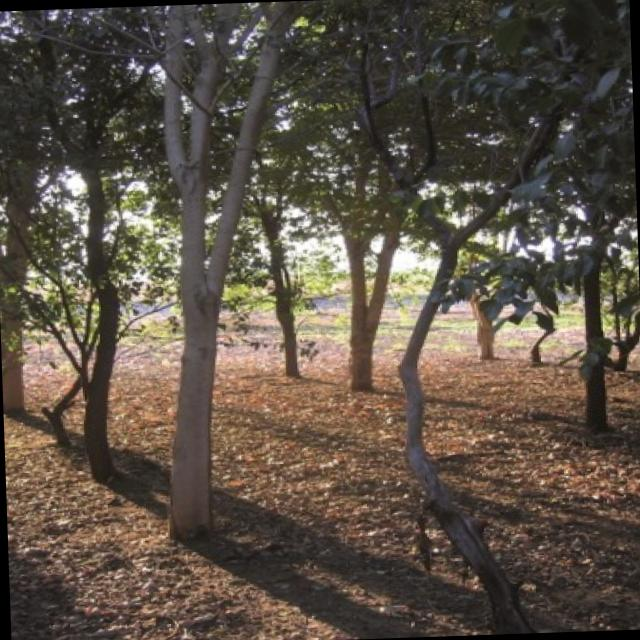Medicinal-Sandalwood: (343, 1, 640, 639), (29, 0, 363, 560)
